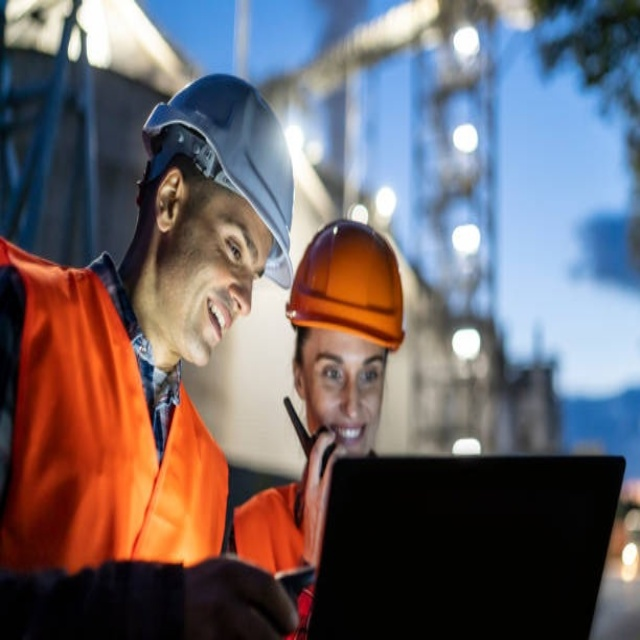Sin_gafas: (206, 205, 266, 284), (308, 351, 389, 389)
Sin_guantes: (181, 546, 295, 635), (302, 427, 338, 558)
Sin_mascara: (193, 289, 234, 356), (335, 411, 371, 453)
